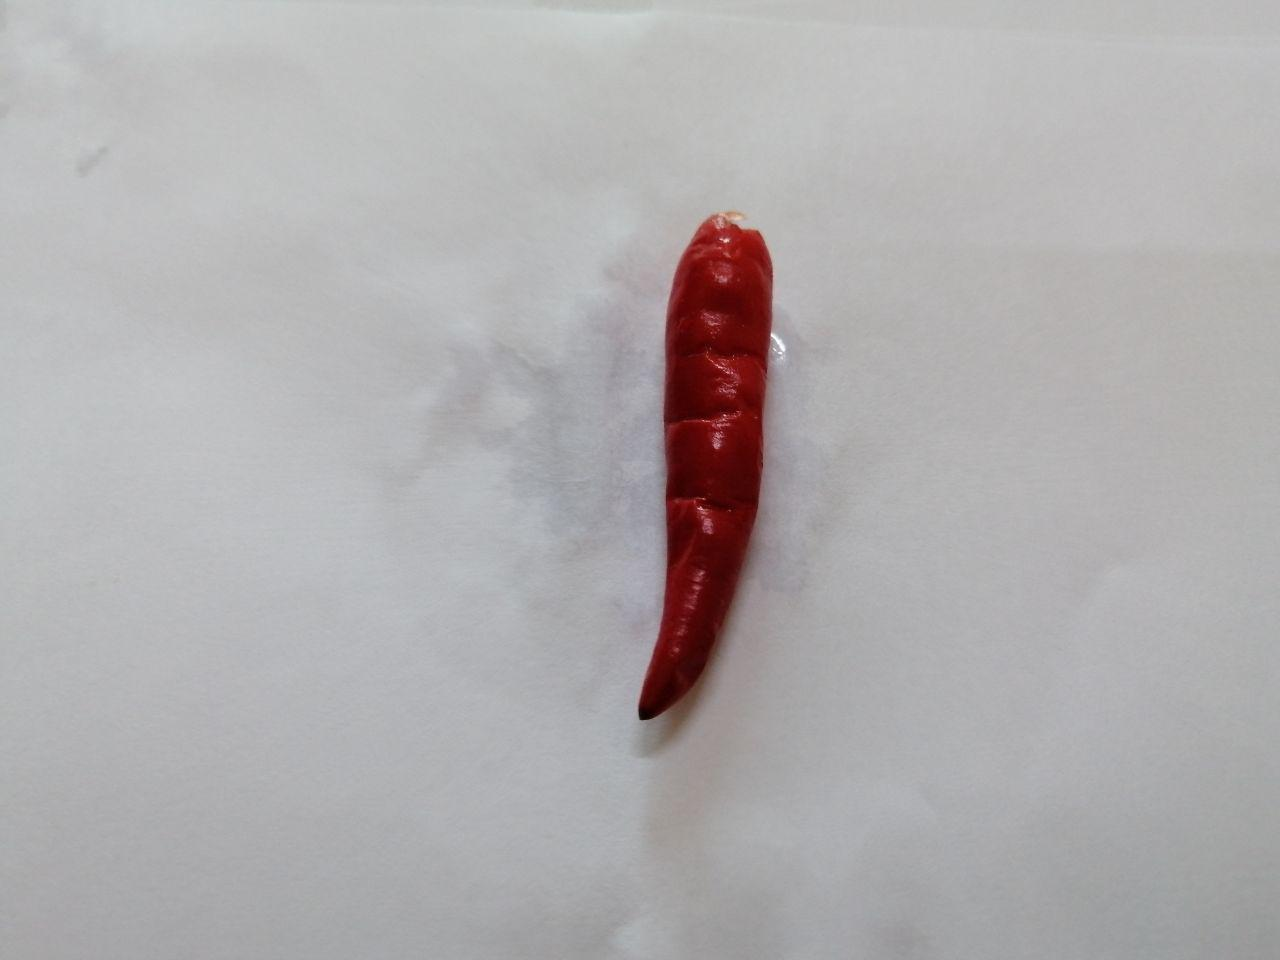lada merah: (618, 186, 809, 734)
